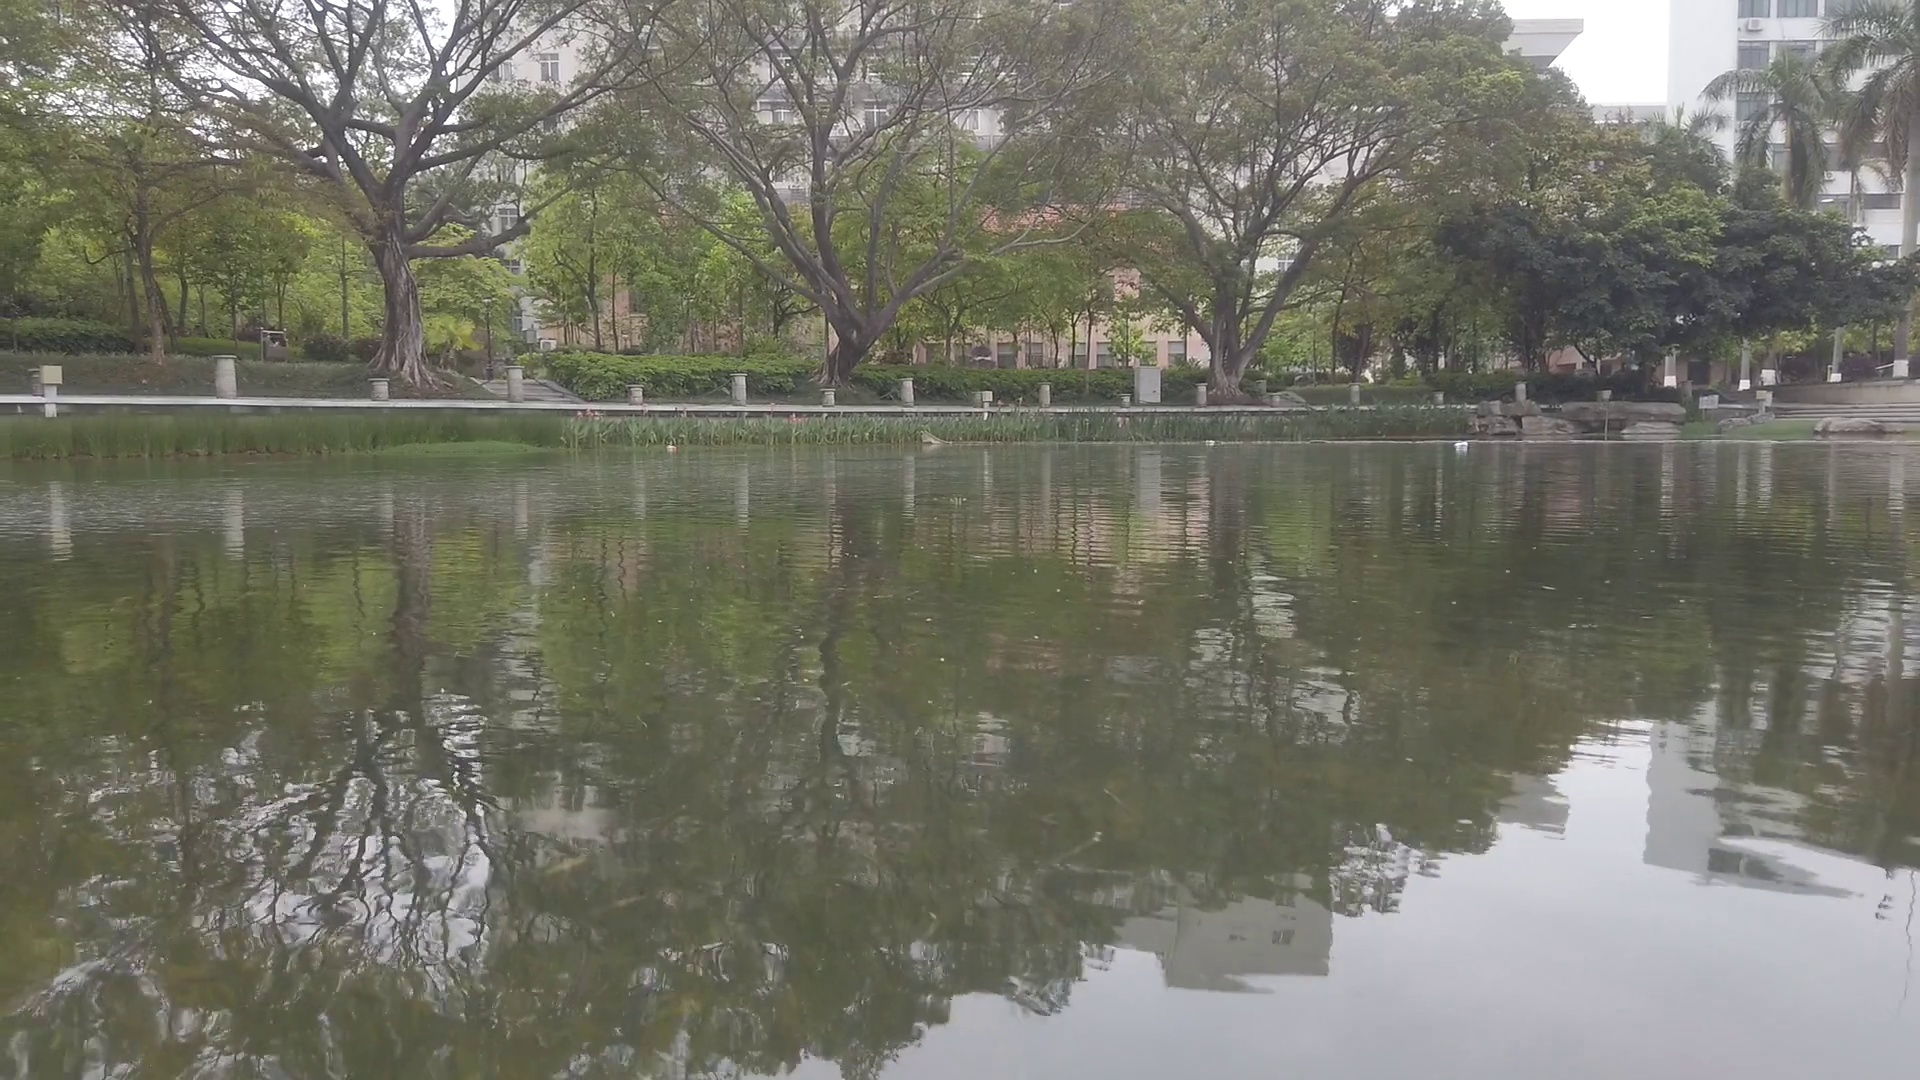bottle: (1456, 440, 1469, 450), (1201, 439, 1217, 446), (667, 444, 674, 450)
